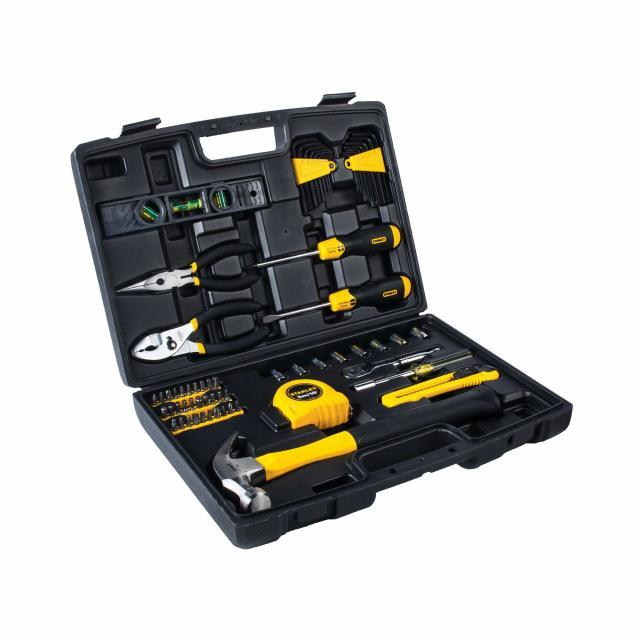hammer: (204, 366, 514, 528)
screwdriver: (254, 255, 428, 333), (243, 206, 418, 270)
